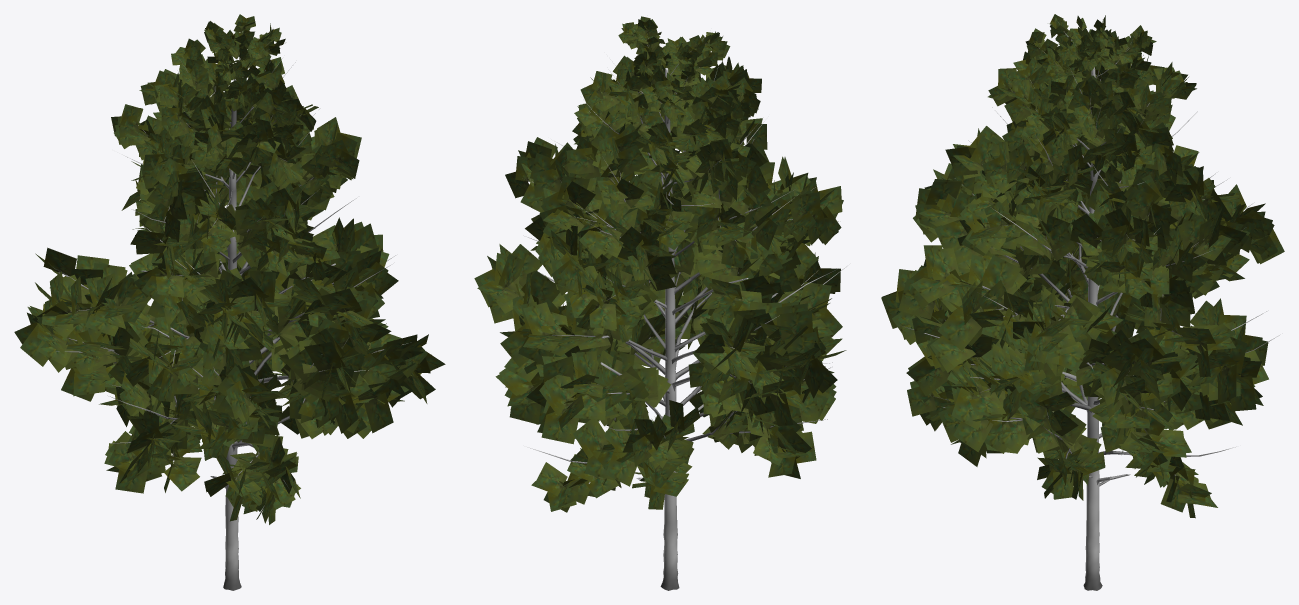
File: RedAlder_Short_mdl.fbx
The picture shows the model from 3 angles, left to right: view 1: azimuth 30°, elevation 25°; view 2: azimuth 150°, elevation 25°; view 3: azimuth 270°, elevation 25°; orthographic projection. The views are drawn at different scales.
Parts seen in each view (by area): view 1: RedAlder_Short_LOD0; view 2: RedAlder_Short_LOD0; view 3: RedAlder_Short_LOD0.
Boxes of the visible parts, x1,y1,x2,y2 form: RedAlder_Short_LOD0: (14, 14, 445, 590); RedAlder_Short_LOD0: (474, 16, 846, 590); RedAlder_Short_LOD0: (881, 14, 1284, 590).
Bounding box in the file's own units: 562 × 848 × 536.
